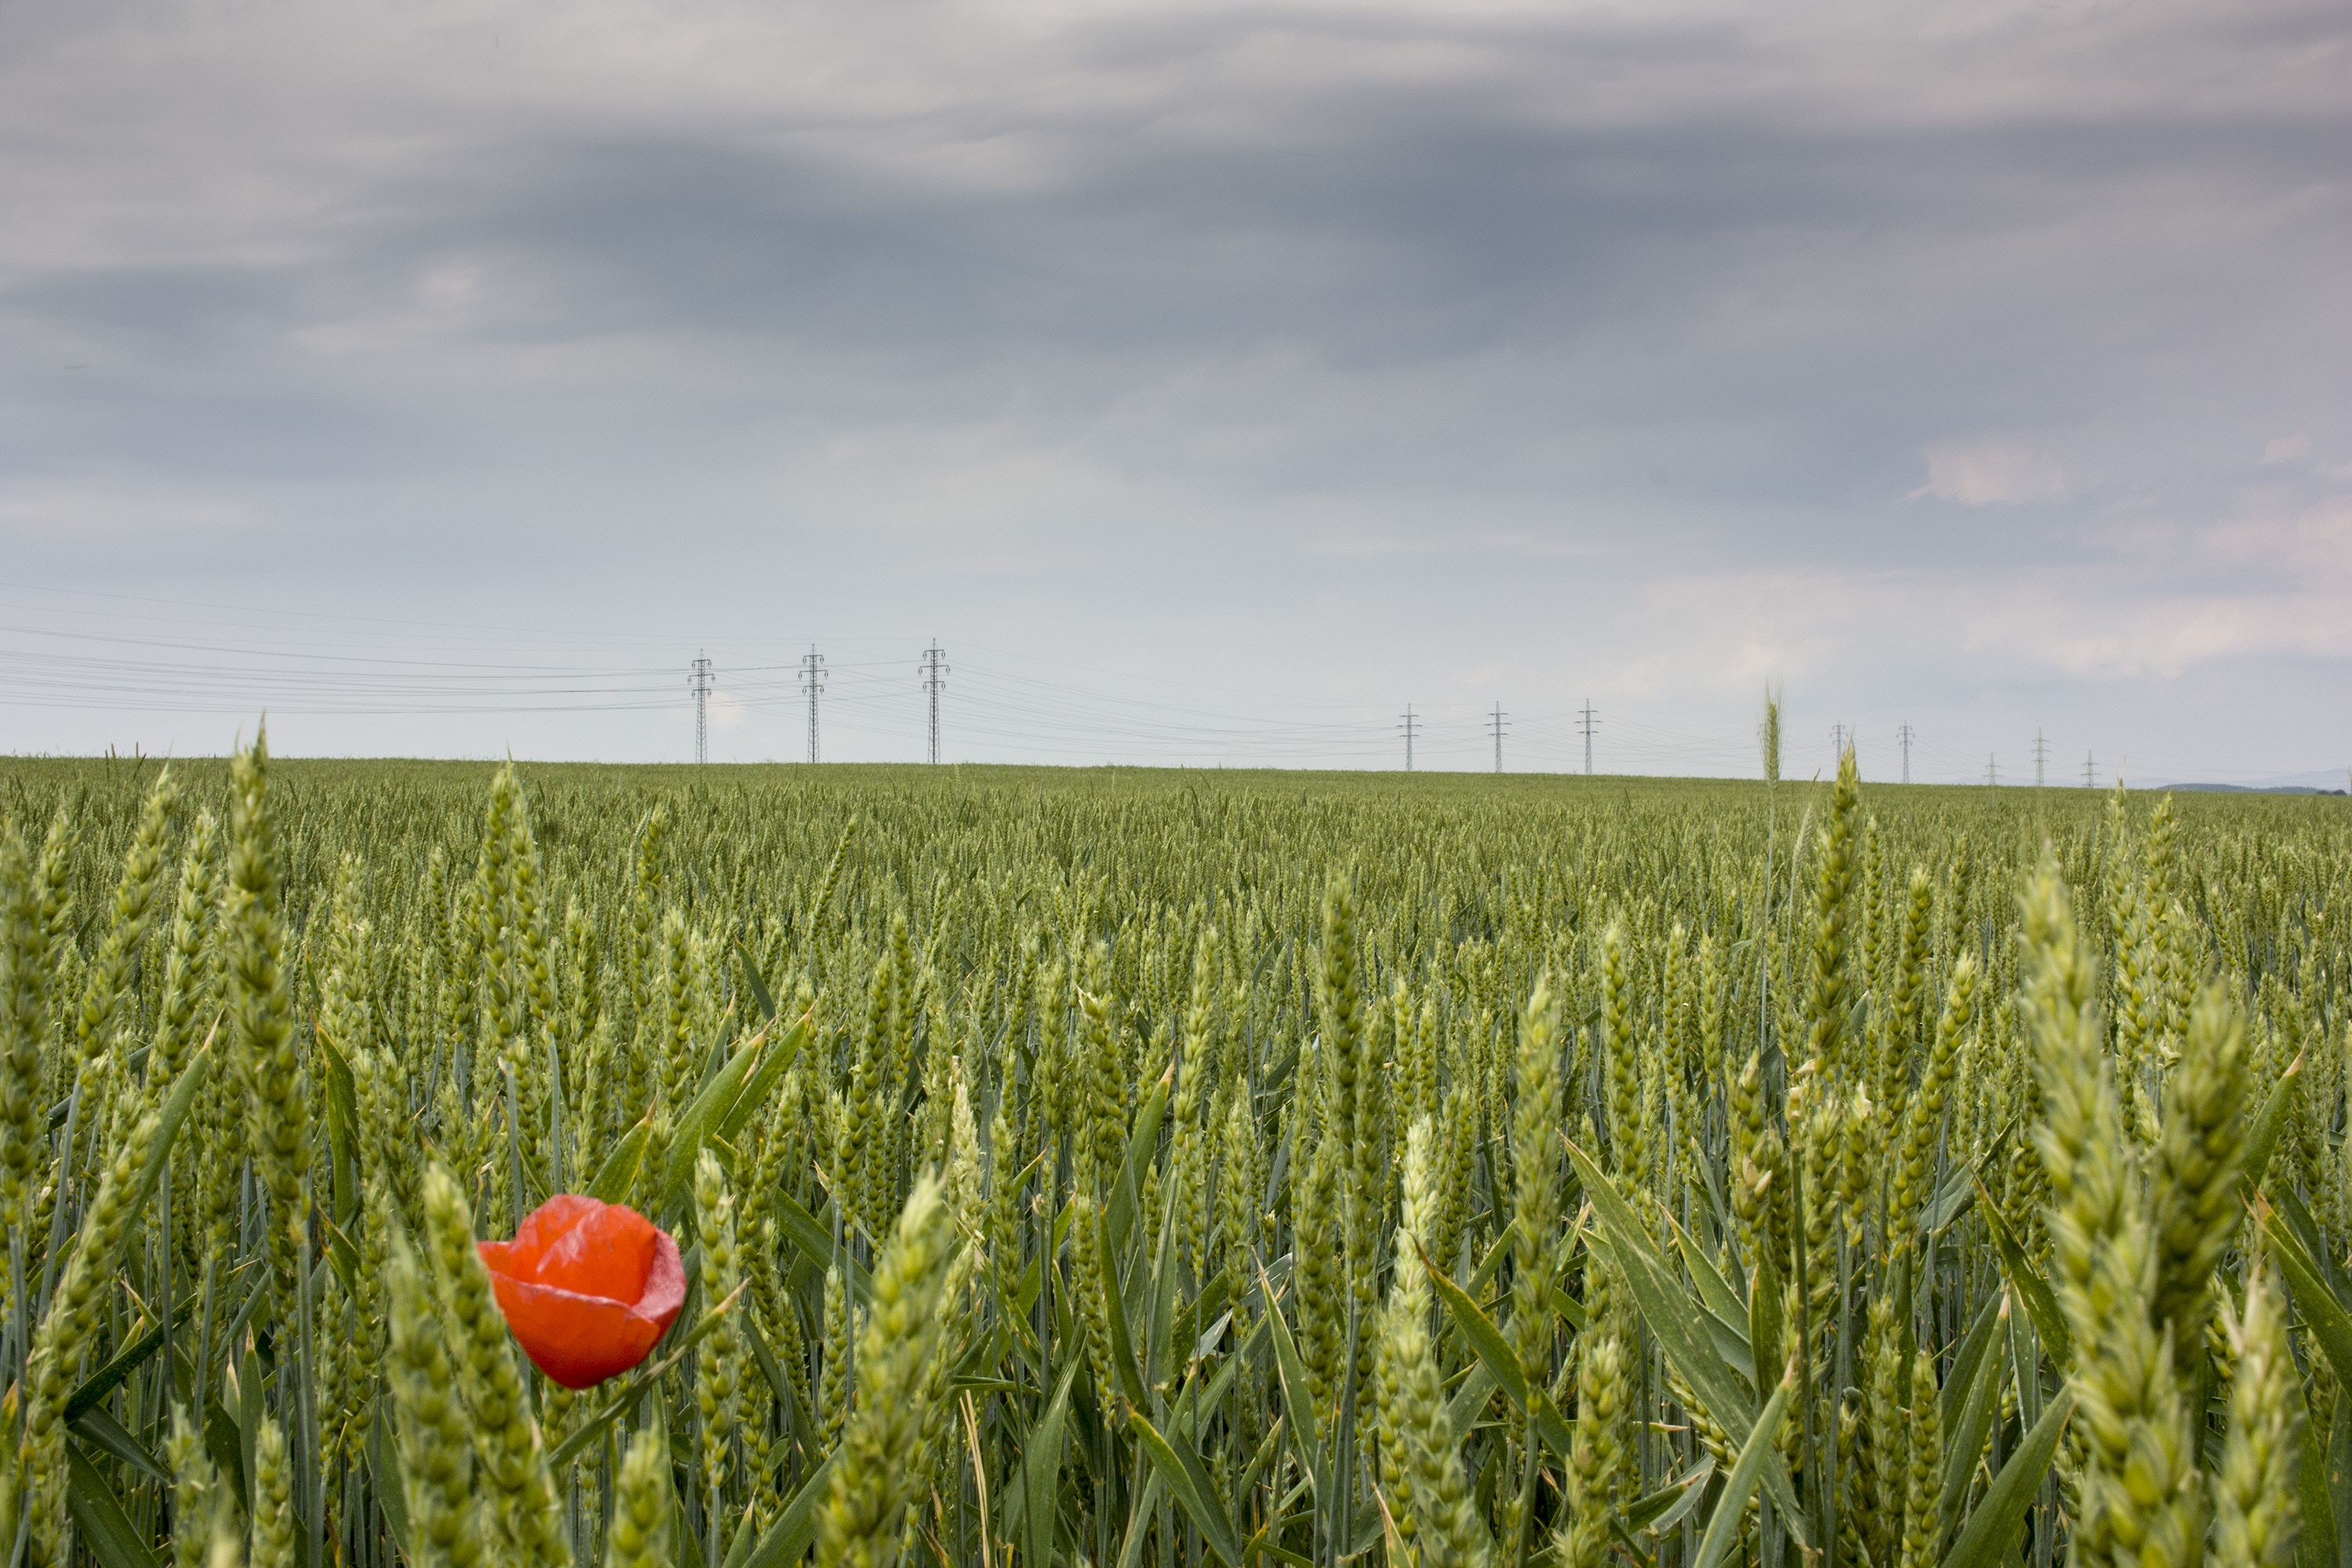Wheat: (915, 828, 2298, 1458)
